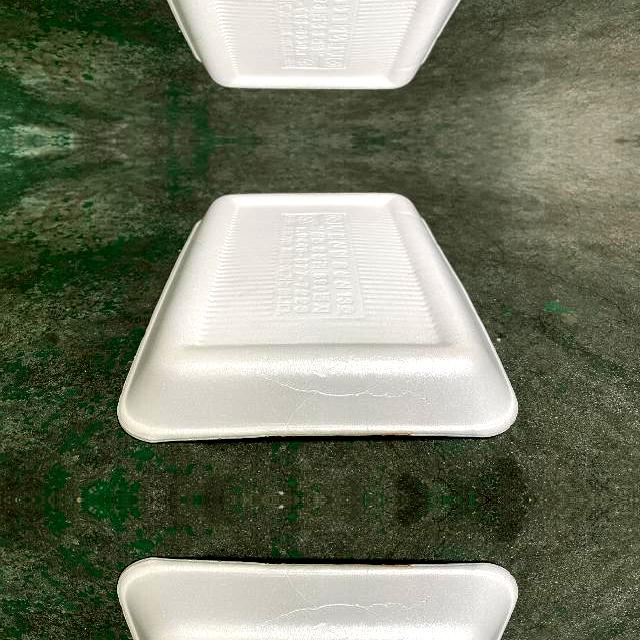Styrofoam: (117, 191, 519, 443), (117, 191, 520, 441), (116, 0, 519, 89), (117, 555, 519, 640), (116, 557, 519, 640), (167, 0, 460, 89)
